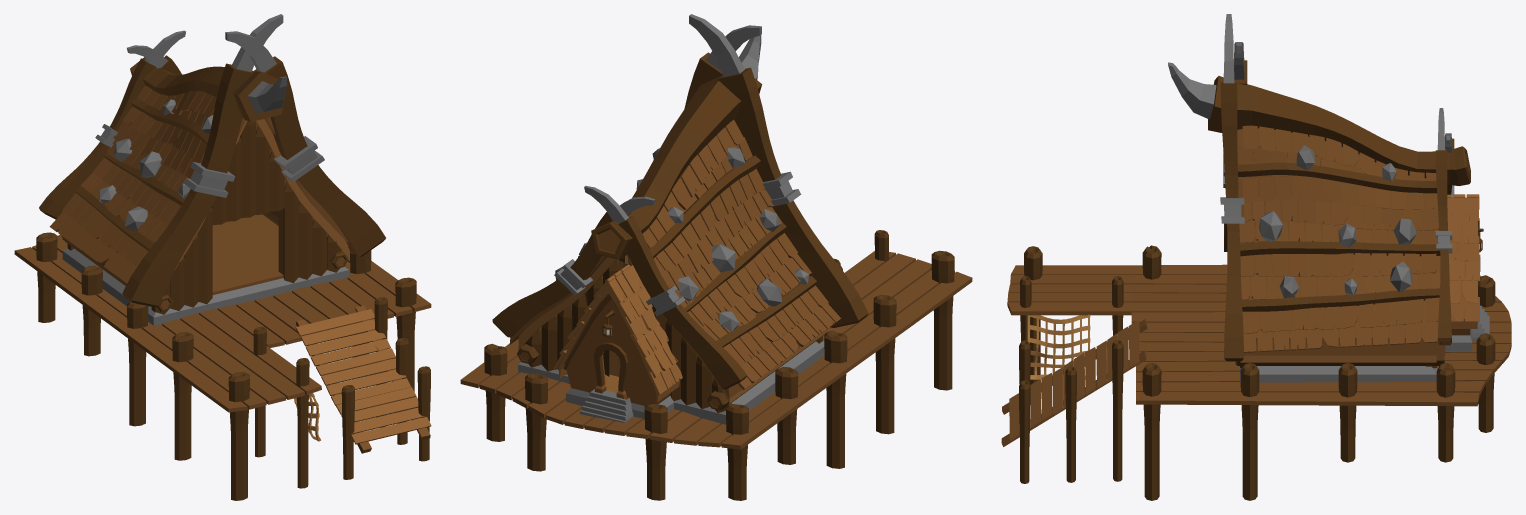
File: A_BoatHouse.fbx
The picture shows the model from 3 angles, left to right: view 1: azimuth 30°, elevation 25°; view 2: azimuth 150°, elevation 25°; view 3: azimuth 270°, elevation 25°; orthographic projection. The views are drawn at different scales.
Parts seen in each view (by area): view 1: A_BoatHouse; view 2: A_BoatHouse; view 3: A_BoatHouse.
Part boxes in pixels (left/top/right/bottom): A_BoatHouse: left=14, top=14, right=431, bottom=500; A_BoatHouse: left=460, top=14, right=972, bottom=500; A_BoatHouse: left=1001, top=14, right=1511, bottom=500.
Bounding box in the file's own units: 922 × 1300 × 1455.
